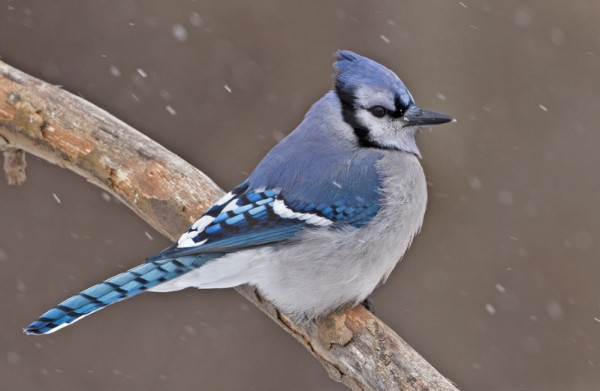bird: (67, 52, 437, 323)
